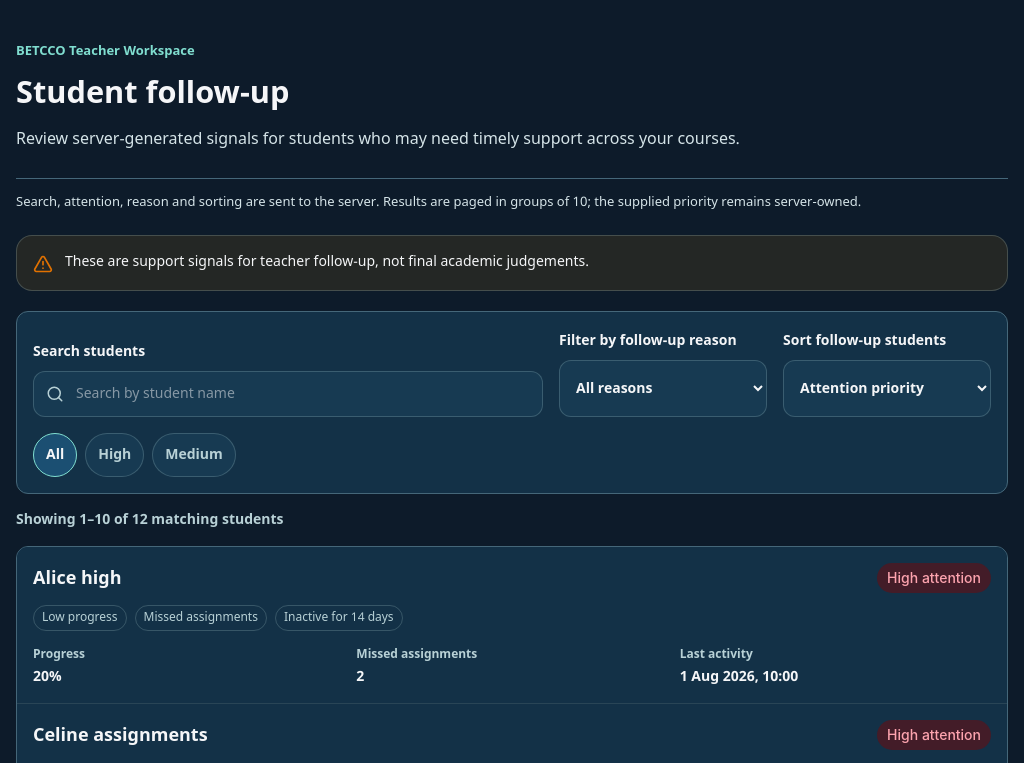
Test: TeacherStudentFollowUp › supports the Most missed assignments server sort
The image size is (1024, 763).
expect the heading "Alice high" is shown: met, box [33,563,122,593]
Select "Most missed assignments" in the dropdown labelled "Sort follow-up students" at [887, 388], box [783,360,991,417]
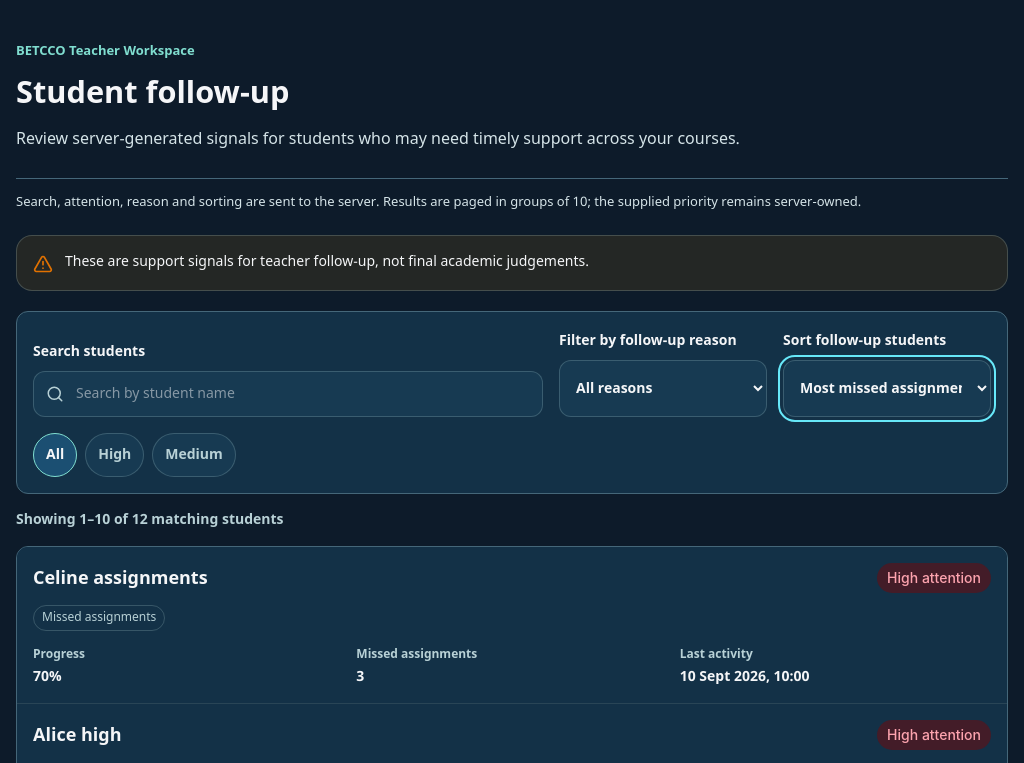
expect the heading "Celine assignments" is shown: met, box [33,563,208,593]
